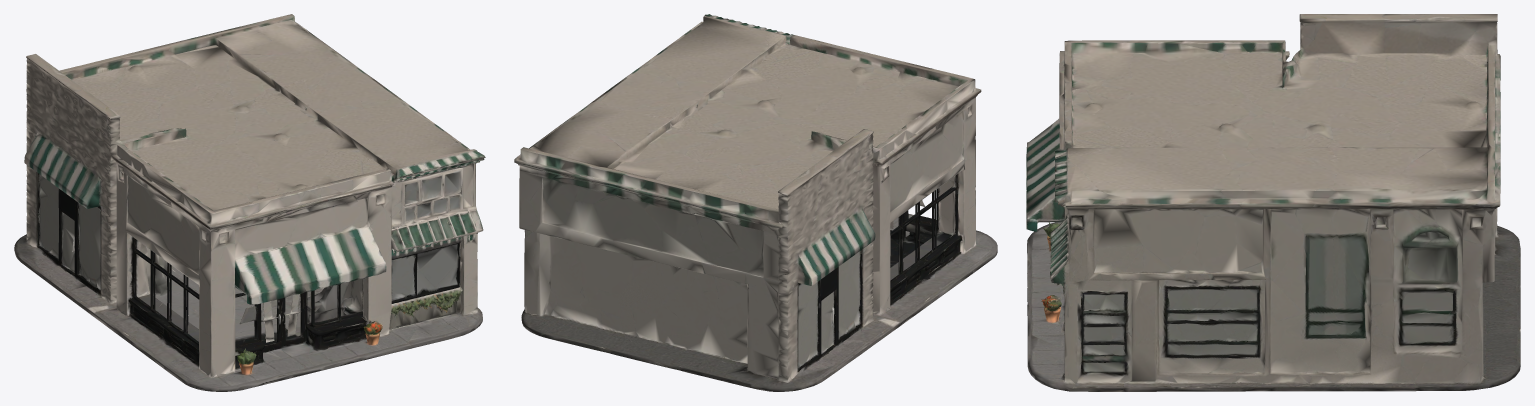
File: grocery-storefront.glb
3 views of the same model, side by side, from view 1: azimuth 30°, elevation 25°; view 2: azimuth 150°, elevation 25°; view 3: azimuth 270°, elevation 25° (orthographic). The views are drawn at different scales.
Bounding box in the file's own units: 1.53 × 0.9481 × 1.9.
1 material, 1 textured.
